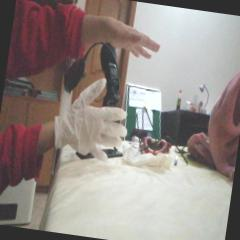gloved: (50, 72, 134, 166)
not-gloved: (84, 15, 163, 64)
